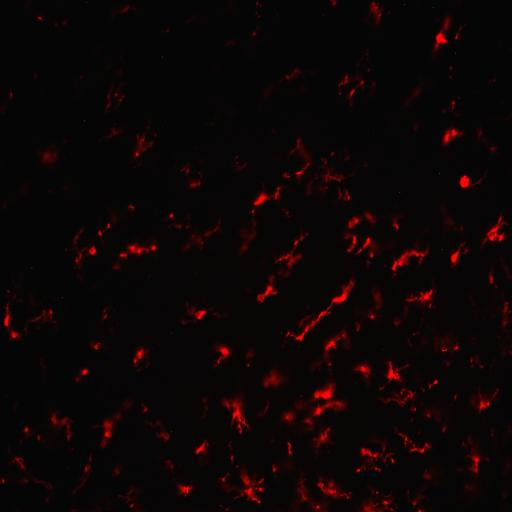microglia: (279, 141, 355, 203), (374, 357, 437, 408), (256, 66, 315, 112), (262, 230, 307, 282), (92, 396, 134, 450), (302, 382, 346, 430), (224, 3, 263, 53), (110, 238, 160, 276), (10, 454, 55, 494), (312, 282, 352, 324), (220, 471, 266, 504), (290, 473, 328, 512), (432, 12, 464, 58), (129, 122, 158, 172), (355, 437, 394, 474), (221, 394, 252, 436), (248, 184, 290, 215), (336, 69, 370, 107), (70, 226, 99, 270), (182, 219, 220, 251), (389, 246, 429, 274), (181, 302, 227, 326), (357, 487, 397, 512), (24, 307, 58, 336), (3, 289, 21, 341), (317, 477, 353, 502), (474, 123, 503, 153), (48, 411, 74, 443), (401, 79, 428, 109), (404, 482, 431, 512), (72, 454, 91, 496), (354, 235, 382, 263), (425, 405, 452, 434), (306, 427, 332, 457), (440, 206, 464, 238), (144, 419, 172, 446), (483, 215, 509, 244), (97, 210, 118, 244), (239, 220, 258, 257), (210, 342, 234, 370), (180, 162, 203, 190), (399, 434, 431, 454), (119, 485, 142, 512), (262, 368, 290, 390), (476, 384, 498, 412), (132, 343, 151, 375), (287, 138, 309, 164), (341, 213, 378, 228), (36, 145, 60, 168), (364, 1, 387, 25), (459, 170, 488, 189), (404, 288, 434, 306), (166, 210, 191, 231), (458, 451, 480, 474), (323, 330, 347, 350), (341, 230, 357, 260), (441, 94, 460, 119), (461, 480, 483, 500), (195, 439, 211, 466), (109, 3, 139, 17), (499, 297, 511, 332), (102, 80, 114, 114), (450, 241, 467, 265), (258, 282, 277, 303), (482, 268, 500, 290), (113, 82, 127, 110), (0, 90, 14, 118), (227, 440, 240, 470), (98, 128, 122, 144), (18, 426, 36, 446), (442, 128, 462, 146), (231, 154, 248, 175), (174, 482, 196, 498), (278, 409, 297, 427), (256, 398, 272, 419), (296, 311, 314, 329), (282, 329, 303, 344), (357, 306, 378, 321), (372, 286, 384, 312), (270, 460, 292, 474), (100, 306, 117, 324), (468, 354, 485, 372), (389, 212, 405, 231), (423, 468, 439, 485), (243, 347, 256, 367), (500, 457, 512, 477), (75, 366, 89, 382), (53, 18, 70, 30), (354, 364, 371, 376), (202, 398, 210, 423), (389, 316, 403, 330), (90, 340, 106, 352), (34, 11, 46, 23), (287, 440, 294, 459), (112, 464, 121, 478), (164, 460, 175, 471), (14, 456, 25, 467), (140, 402, 148, 416), (354, 322, 362, 334), (128, 202, 136, 213), (314, 405, 322, 415), (161, 26, 171, 34), (4, 315, 10, 326), (257, 294, 264, 302), (406, 340, 412, 348), (330, 0, 336, 7), (412, 331, 420, 336), (272, 465, 276, 472), (169, 212, 173, 218), (441, 348, 447, 352), (98, 230, 102, 236), (24, 427, 28, 432), (10, 92, 13, 98), (1, 479, 5, 483), (136, 152, 138, 156)
